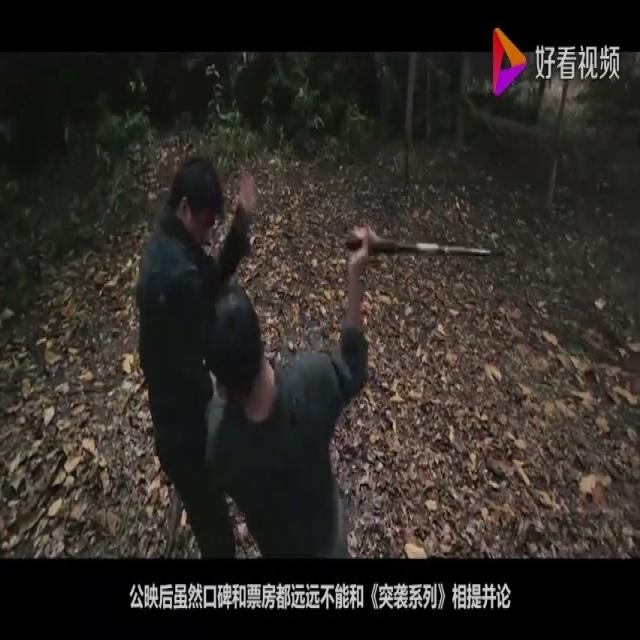fight: (113, 132, 400, 561)
